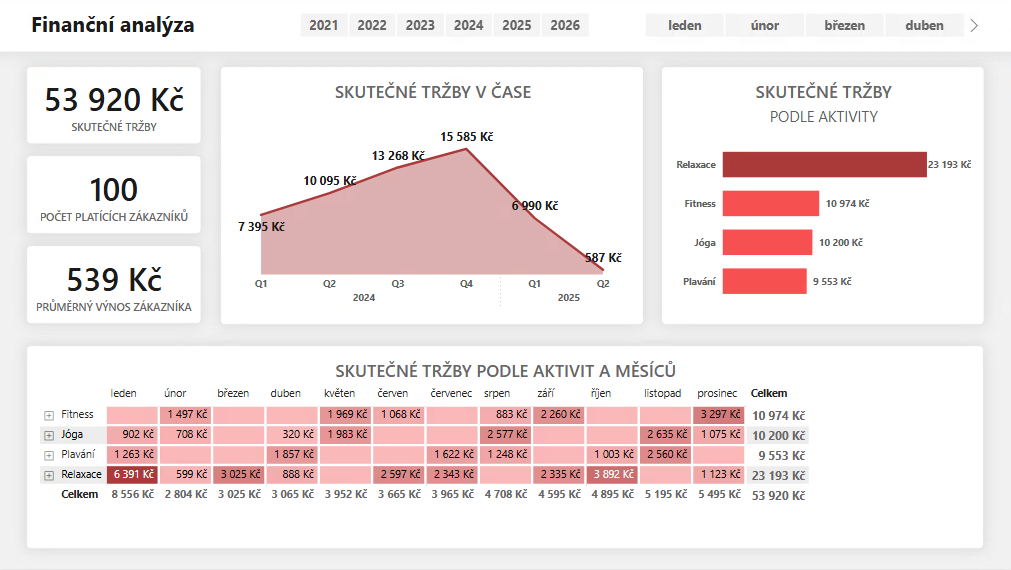

The page's visual inventory and layout, read from the dashboard file:
{"tool":"powerbi","page":{"name":"Finanční analýza","canvas":[1280,720],"ordinal":5},"visuals":[{"type":"pivotTable","title":"SKUTEČNÉ TRŽBY PODLE AKTIVIT A MĚSÍCŮ","fields":{"Rows":["Aktivity.Nazev","Zakaznici.Prijmeni"],"Columns":["Kalendar.Rok Hierarchy.Měsíc","Kalendar.Rok Hierarchy.Den"],"Values":["Rezervace.SkutecneTrzby"]},"box":[40.8,440.3,1200.8,254.3],"z":0},{"type":"clusteredBarChart","title":"SKUTEČNÉ TRŽBY","fields":{"Category":["Aktivity.Nazev"],"Y":["Rezervace.SkutecneTrzby"]},"box":[837.3,88.8,404.3,322.7],"z":1000},{"type":"shape","box":[0,0,1280,69.6],"z":2000},{"type":"textbox","box":[39.6,10.8,317.9,49.2],"z":3000},{"type":"card","title":"UNIKÁTNÍ KLIENTI","fields":{"Values":["Rezervace.SkutecneTrzby"]},"box":[40.5,88.7,218,96.5],"z":4000},{"type":"card","title":"UNIKÁTNÍ KLIENTI","fields":{"Values":["Rezervace.PocetPlaticichZakazniku"]},"box":[40.6,200.9,218,97.2],"z":5000},{"type":"card","title":"UNIKÁTNÍ KLIENTI","fields":{"Values":["Rezervace.PrumernyVynosZakaznika"]},"box":[40.6,314.1,218,97.2],"z":6000},{"type":"slicer","title":"ROK","fields":{"Values":["Kalendar.Rok Hierarchy.Rok"]},"box":[358.1,15.4,411.6,41.2],"z":7000},{"type":"slicer","title":"ROK","fields":{"Values":["Kalendar.Rok Hierarchy.Měsíc"]},"box":[791.3,15.4,449.6,40.1],"z":8000},{"type":"areaChart","title":"SKUTEČNÉ TRŽBY V ČASE","fields":{"Y":["Rezervace.SkutecneTrzby"],"Category":["Kalendar.Rok Hierarchy.Rok","Kalendar.Rok Hierarchy.Čtvrtletí","Kalendar.Rok Hierarchy.Měsíc"]},"box":[284.3,88.8,530.2,322.7],"z":9000}]}

Visuals, with their boxes in screenshot pixels (x1, y1, x2, y2), scaled from the page's 1280x720 canvas onto the 1011x570 screenshot:
"SKUTEČNÉ TRŽBY PODLE AKTIVIT A MĚSÍCŮ" pivotTable: (left=32, top=349, right=981, bottom=550)
"SKUTEČNÉ TRŽBY" clusteredBarChart: (left=661, top=70, right=981, bottom=326)
shape: (left=0, top=0, right=1010, bottom=55)
textbox: (left=31, top=9, right=282, bottom=48)
"UNIKÁTNÍ KLIENTI" card: (left=32, top=70, right=204, bottom=147)
"UNIKÁTNÍ KLIENTI" card: (left=32, top=159, right=204, bottom=236)
"UNIKÁTNÍ KLIENTI" card: (left=32, top=249, right=204, bottom=326)
"ROK" slicer: (left=283, top=12, right=608, bottom=45)
"ROK" slicer: (left=625, top=12, right=980, bottom=44)
"SKUTEČNÉ TRŽBY V ČASE" areaChart: (left=225, top=70, right=643, bottom=326)
